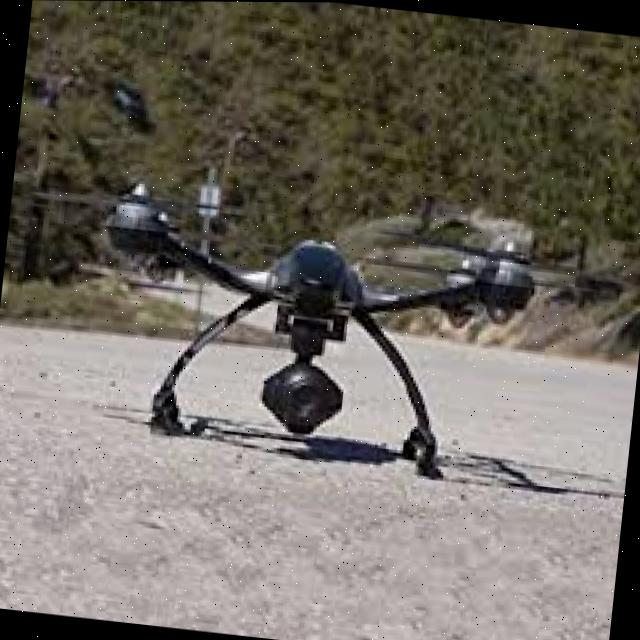drone: (0, 133, 595, 506)
